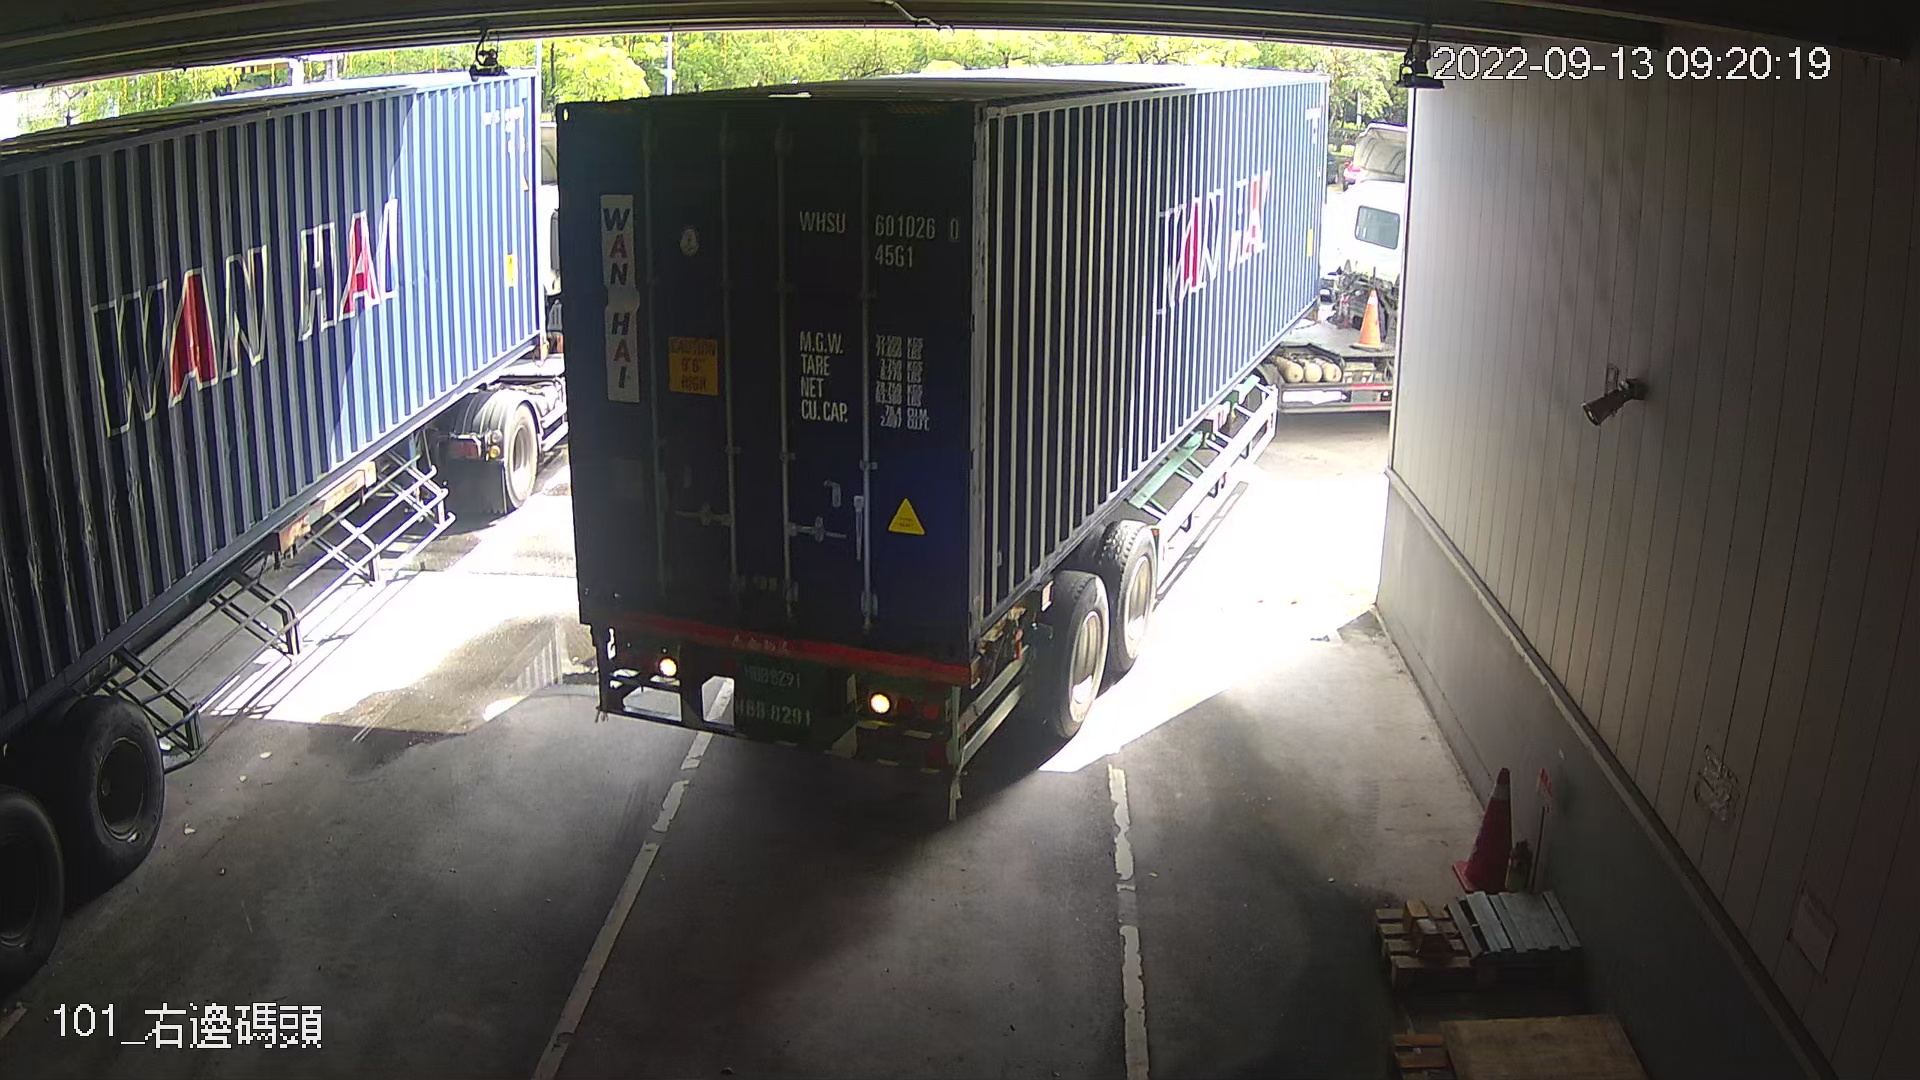container: (785, 195, 967, 277)
